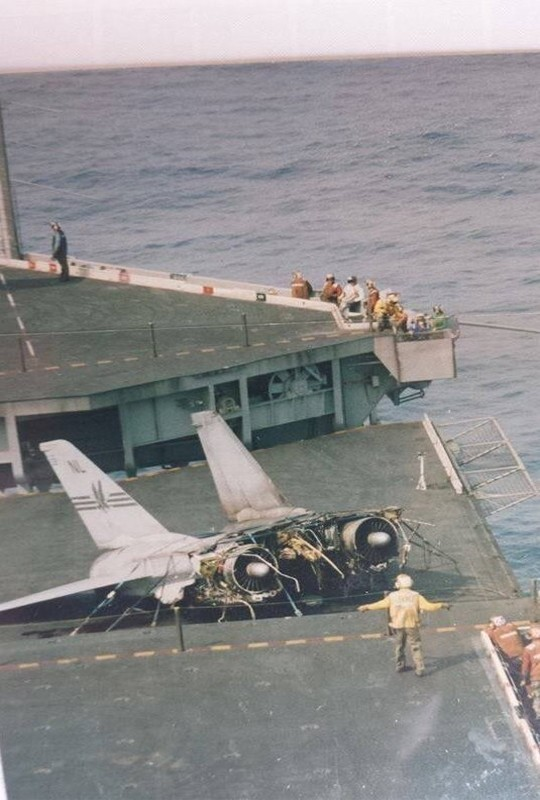F14: (1, 409, 437, 620)
